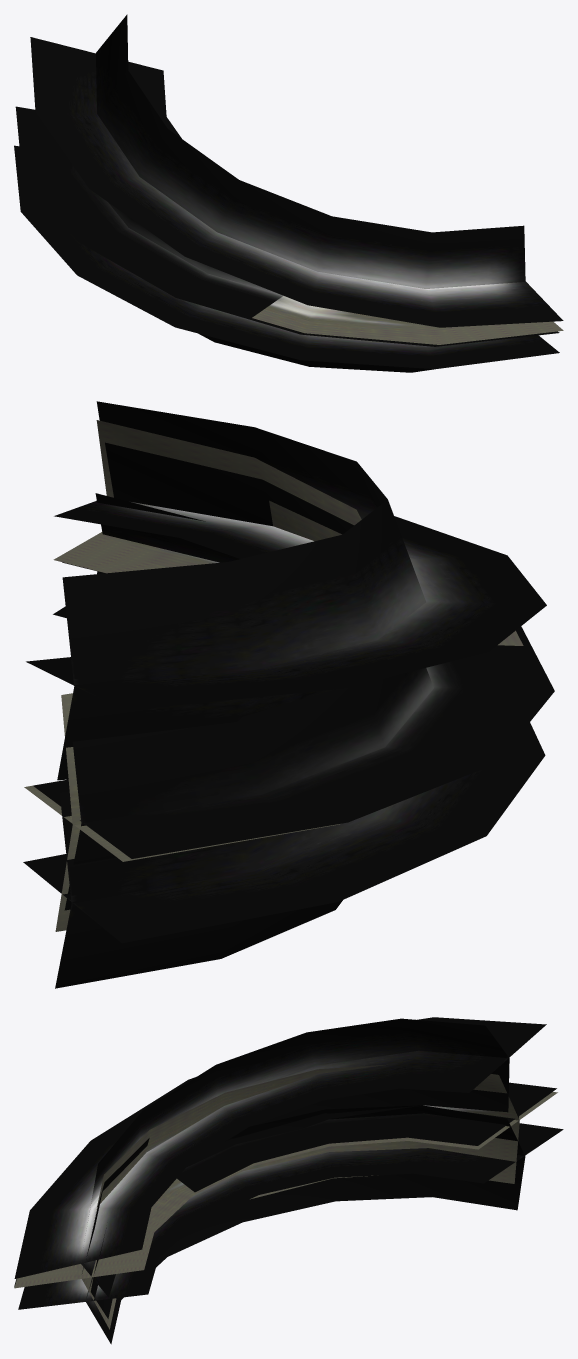
File: Effect_4006attack_S.fbx
3 views of the same model, one above another, from view 1: azimuth 30°, elevation 25°; view 2: azimuth 150°, elevation 25°; view 3: azimuth 270°, elevation 25° (orthographic). The views are drawn at different scales.
Visible parts, largest first — view 1: Effect_1001tattack06, Effect_1001tattack05, Effect_1001tattack02, Effect_1001tattack01; view 2: Effect_1001tattack06, Effect_1001tattack02, Effect_1001tattack05, Effect_1001tattack01; view 3: Effect_1001tattack06, Effect_1001tattack05, Effect_1001tattack01, Effect_1001tattack02.
Part boxes in pixels (x1,y1,x2,y2): Effect_1001tattack06: [30, 14, 563, 327]; Effect_1001tattack05: [14, 145, 559, 372]; Effect_1001tattack02: [15, 106, 559, 346]; Effect_1001tattack01: [252, 296, 563, 344]; Effect_1001tattack06: [26, 401, 546, 780]; Effect_1001tattack02: [33, 442, 554, 910]; Effect_1001tattack05: [23, 493, 545, 988]; Effect_1001tattack01: [24, 420, 523, 931]; Effect_1001tattack06: [14, 1017, 546, 1301]; Effect_1001tattack05: [18, 1105, 563, 1344]; Effect_1001tattack01: [14, 1064, 557, 1329]; Effect_1001tattack02: [14, 1082, 556, 1318].
Size of the model in its own units: 2.98 by 2.13 by 4.53.
Materials: 3 (3 with a texture image).
